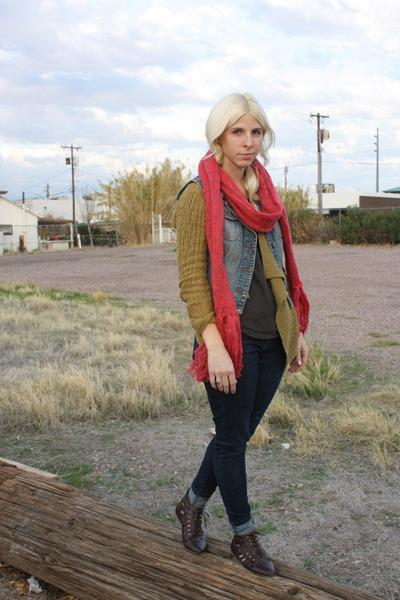jacket: (173, 180, 299, 347), (220, 188, 284, 299)
pants: (191, 325, 286, 527)
shirt: (236, 256, 284, 338)
shoe: (175, 493, 274, 539)
